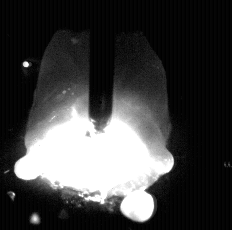arame: (90, 0, 114, 133)
poca: (24, 0, 168, 230)
